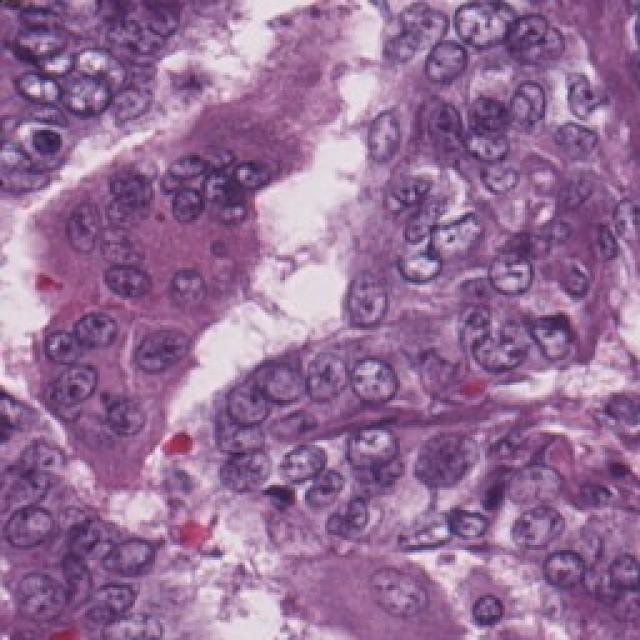abnormal: (286, 323, 367, 422), (367, 503, 488, 563), (414, 425, 497, 500), (338, 342, 410, 425), (497, 70, 578, 142), (214, 357, 284, 440), (484, 241, 560, 317), (123, 318, 209, 385), (0, 102, 75, 178), (50, 61, 122, 139), (214, 427, 283, 505), (416, 28, 488, 100), (0, 558, 69, 630), (348, 103, 411, 181), (520, 529, 589, 599), (419, 198, 497, 259), (268, 431, 340, 497), (341, 414, 410, 481), (448, 0, 520, 61), (95, 532, 173, 588), (333, 262, 400, 326), (55, 62, 122, 126), (500, 450, 562, 514), (100, 262, 166, 318), (87, 388, 154, 442), (65, 298, 123, 359), (33, 319, 92, 378), (44, 357, 104, 415), (247, 348, 309, 404), (0, 500, 62, 553), (11, 61, 78, 109)
